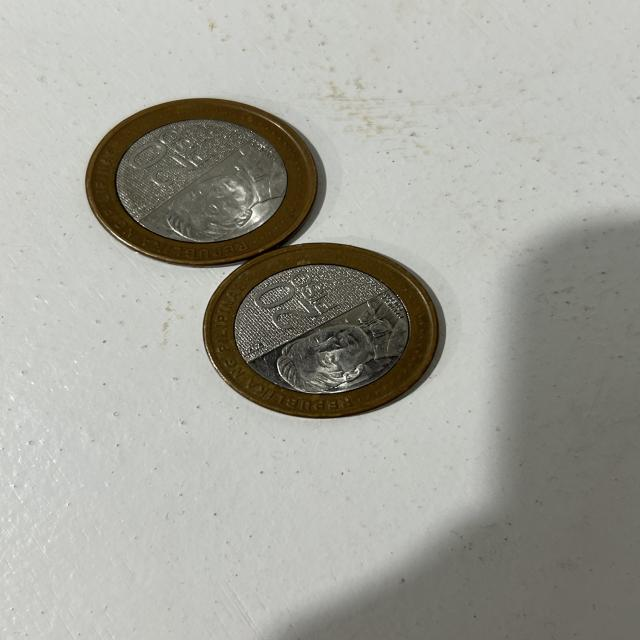20_New_Front: (248, 272, 344, 328), (122, 132, 215, 186)
